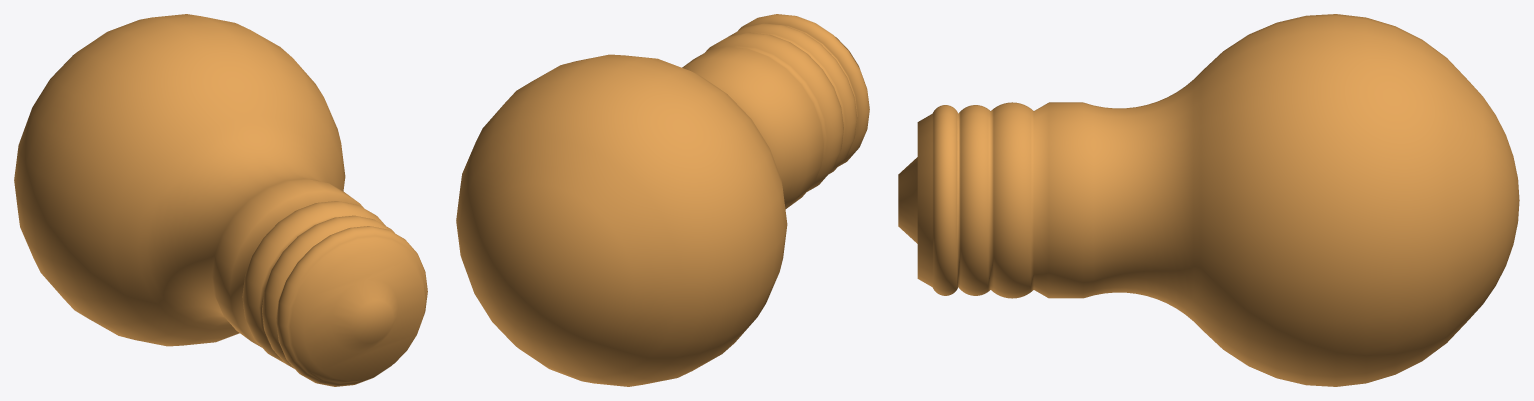
File: lightbulb1_6.dae
3 renders of one model, left to right at view 1: azimuth 30°, elevation 25°; view 2: azimuth 150°, elevation 25°; view 3: azimuth 270°, elevation 25°, orthographic. The views are drawn at different scales.
Visible parts, largest first — view 1: lightbulb1_019; view 2: lightbulb1_019; view 3: lightbulb1_019.
Boxes of the visible parts, x1,y1,x2,y2 form: lightbulb1_019: [14, 14, 427, 386]; lightbulb1_019: [456, 14, 869, 386]; lightbulb1_019: [898, 14, 1519, 386].
Size of the model in its own units: 0.1122 by 0.1862 by 0.1122.
